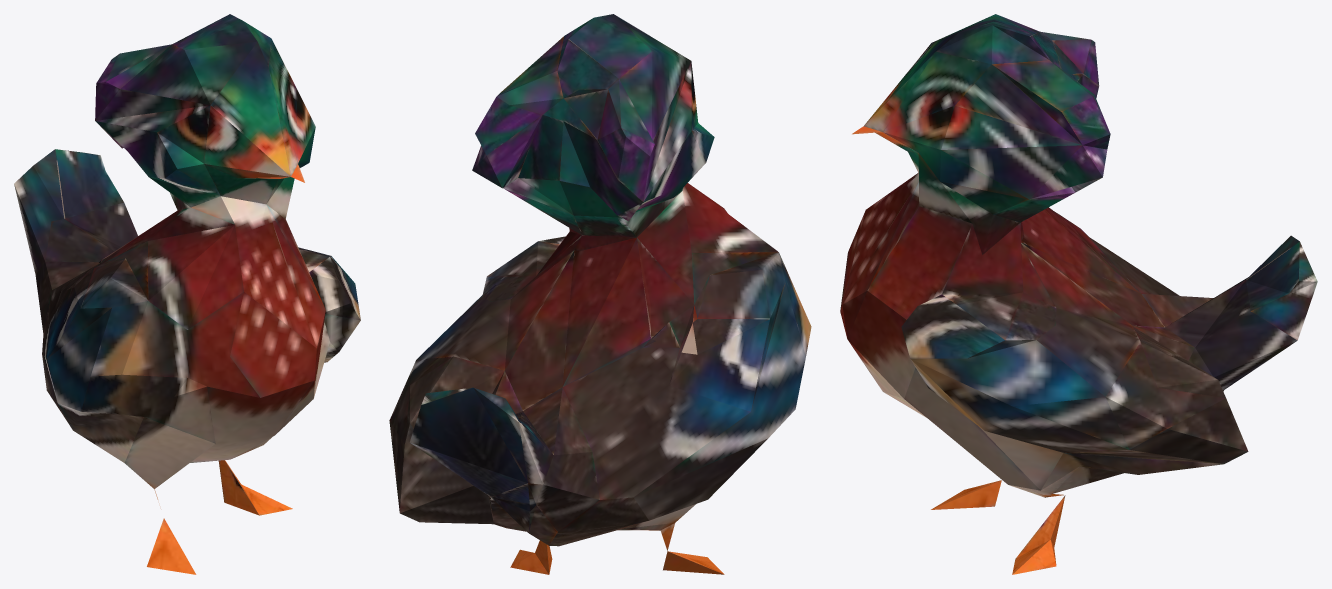
File: duck-wood-lod.glb
The picture shows the model from 3 angles, left to right: view 1: azimuth 30°, elevation 25°; view 2: azimuth 150°, elevation 25°; view 3: azimuth 270°, elevation 25°; orthographic projection. The views are drawn at different scales.
Parts seen in each view (by area): view 1: output_unwrapped; view 2: output_unwrapped; view 3: output_unwrapped.
Boxes of the visible parts, left/top/right/bottom form: output_unwrapped: left=14, top=14, right=360, bottom=574; output_unwrapped: left=389, top=14, right=811, bottom=574; output_unwrapped: left=840, top=14, right=1317, bottom=574.
Bounding box in the file's own units: 0.2647 × 0.45 × 0.3724.
Materials: 1 (1 with a texture image).
